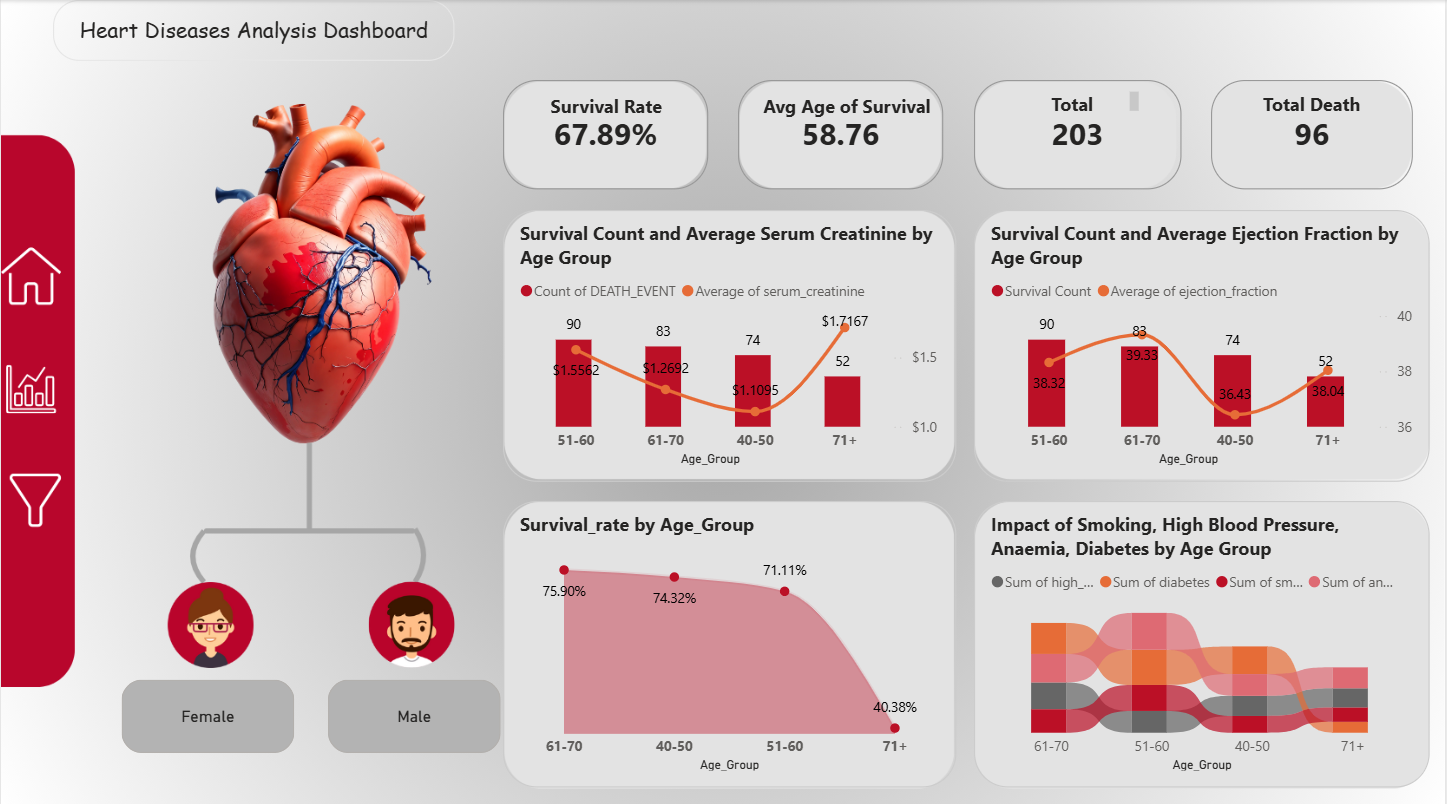

This screenshot's page, from the dashboard's own definition file:
{"tool":"powerbi","page":{"name":"Page 1","canvas":[1280,720],"ordinal":0},"visuals":[{"type":"textbox","box":[46.1,0,356.5,54.1],"z":0},{"type":"card","fields":{"Values":["heart_Disease_clinical_records_.Survival_rate"]},"box":[445.5,71,181.9,97.3],"z":1000},{"type":"card","fields":{"Values":["heart_Disease_clinical_records_.Avg_age_of_survival"]},"box":[653.6,71,181.9,97.3],"z":2000},{"type":"card","fields":{"Values":["heart_Disease_clinical_records_.Total_surviour"]},"box":[862.7,71,183.8,97.3],"z":3000},{"type":"card","fields":{"Values":["heart_Disease_clinical_records_.Total_death"]},"box":[1072.8,71,179,97.3],"z":4000},{"type":"textbox","box":[473.7,77.8,126.4,33.1],"z":5000},{"type":"textbox","box":[665.3,77.8,170.2,33.1],"z":6000},{"type":"textbox","box":[893.9,75.9,119.6,32.1],"z":7000},{"type":"textbox","box":[1104.9,75.9,114.8,32.1],"z":8000},{"type":"lineClusteredColumnComboChart","title":"Survival Count and Average Serum Creatinine by Age Group","fields":{"Category":["heart_Disease_clinical_records_.Age_Group"],"Y":["CountNonNull(heart_Disease_clinical_records_.DEATH_EVENT)"],"Y2":["Avg(heart_Disease_clinical_records_.serum_creatinine)"]},"box":[445.1,186.2,401.7,241.2],"z":9000},{"type":"lineClusteredColumnComboChart","title":"Survival Count and Average Ejection Fraction by Age Group","fields":{"Category":["heart_Disease_clinical_records_.Age_Group"],"Y":["CountNonNull(heart_Disease_clinical_records_.DEATH_EVENT)"],"Y2":["Avg(heart_Disease_clinical_records_.ejection_fraction)"]},"box":[862.8,186.2,404.3,241.2],"z":10000},{"type":"lineChart","fields":{"Category":["heart_Disease_clinical_records_.Age_Group"],"Y":["heart_Disease_clinical_records_.Survival_rate"]},"box":[445.1,444.2,401.7,254.5],"z":11000},{"type":"ribbonChart","title":"Impact of Smoking, High Blood Pressure, Anaemia, Diabetes by Age Group","fields":{"Category":["heart_Disease_clinical_records_.Age_Group"],"Y":["Sum(heart_Disease_clinical_records_.high_blood_pressure)","Sum(heart_Disease_clinical_records_.diabetes)","Sum(heart_Disease_clinical_records_.smoking)","Sum(heart_Disease_clinical_records_.anaemia)"]},"box":[862.8,444.2,404.3,254.5],"z":12000},{"type":"advancedSlicerVisual","fields":{"Values":["heart_Disease_clinical_records_.Gender"]},"box":[102,597.6,347.6,75.4],"z":13000}]}

Visuals, with their boxes in screenshot pixels (x1, y1, x2, y2), scaled from the page's 1280x720 canvas onto the 1447x804 screenshot:
textbox: 52:0:455:60
card - heart_Disease_clinical_records_.Survival_rate: 504:79:709:188
card - heart_Disease_clinical_records_.Avg_age_of_survival: 739:79:945:188
card - heart_Disease_clinical_records_.Total_surviour: 975:79:1183:188
card - heart_Disease_clinical_records_.Total_death: 1213:79:1415:188
textbox: 536:87:678:124
textbox: 752:87:945:124
textbox: 1011:85:1146:121
textbox: 1249:85:1379:121
"Survival Count and Average Serum Creatinine by Age Group" lineClusteredColumnComboChart: 503:208:957:477
"Survival Count and Average Ejection Fraction by Age Group" lineClusteredColumnComboChart: 975:208:1432:477
lineChart - heart_Disease_clinical_records_.Age_Group x heart_Disease_clinical_records_.Survival_rate: 503:496:957:780
"Impact of Smoking, High Blood Pressure, Anaemia, Diabetes by Age Group" ribbonChart: 975:496:1432:780
advancedSlicerVisual - heart_Disease_clinical_records_.Gender: 115:667:508:752
